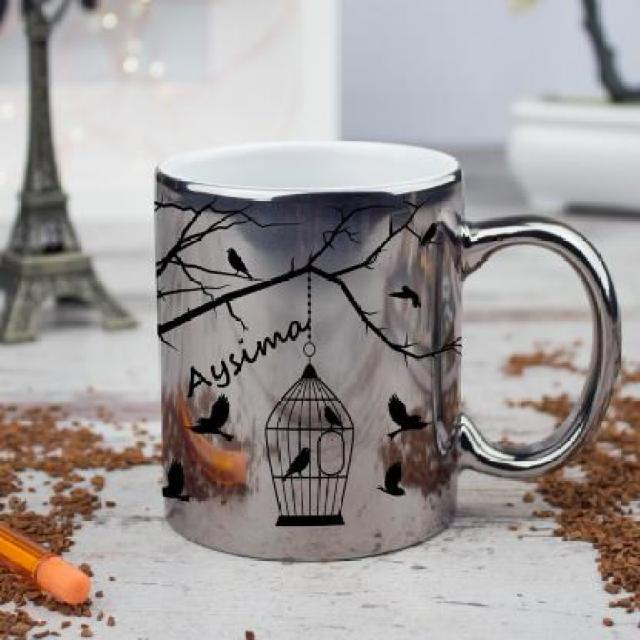taza: (130, 135, 626, 580)
